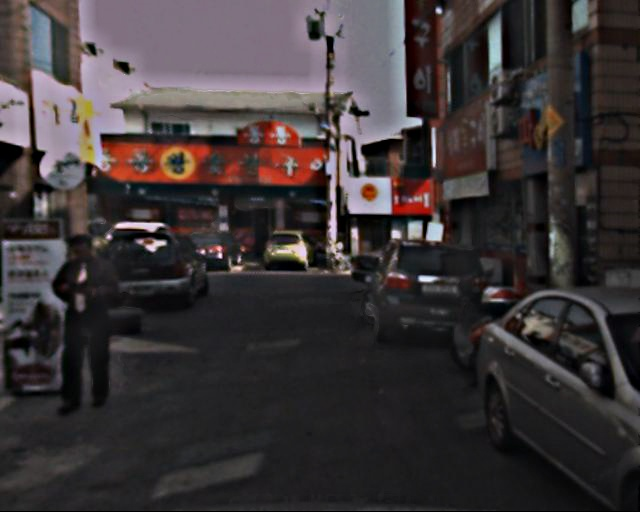person: (47, 231, 130, 413)
